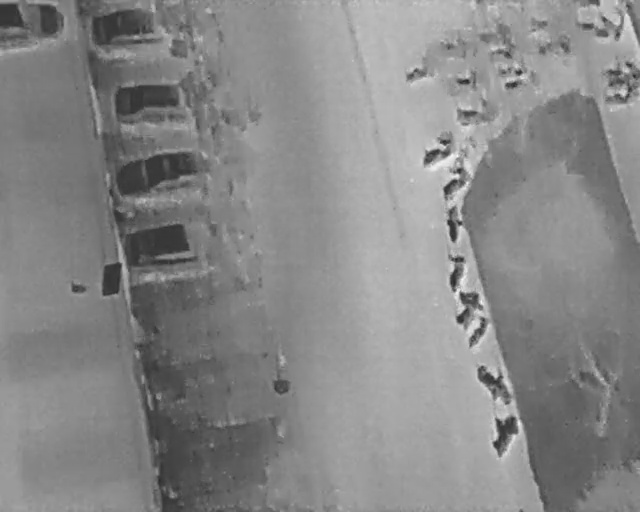Bicycle: (469, 353, 523, 413), (443, 282, 491, 334), (481, 407, 525, 462), (412, 130, 458, 174), (437, 162, 476, 206), (461, 313, 496, 355), (440, 252, 471, 297), (454, 103, 495, 128), (442, 202, 464, 244), (402, 58, 434, 85), (602, 86, 639, 107), (598, 57, 636, 77), (488, 42, 516, 63), (497, 59, 525, 80), (607, 71, 639, 87), (502, 74, 528, 93), (453, 68, 477, 87), (531, 13, 549, 32), (560, 31, 572, 54), (538, 38, 550, 57)
Car: (117, 215, 227, 280), (111, 143, 227, 204), (87, 2, 200, 54), (112, 80, 220, 127), (0, 1, 67, 52)
